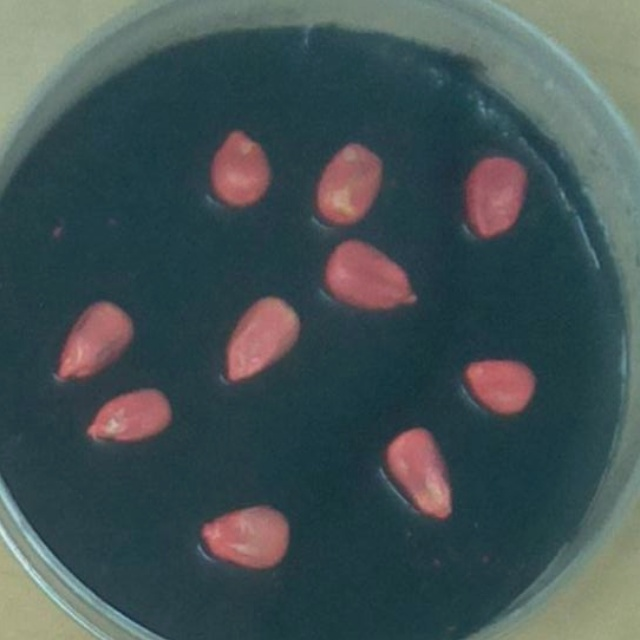Zea mays: (212, 285, 310, 394), (314, 230, 428, 320), (376, 416, 461, 527), (44, 291, 141, 388), (190, 493, 299, 575), (453, 147, 540, 247), (310, 131, 392, 232), (201, 119, 281, 217), (77, 376, 179, 452), (454, 350, 546, 422)
